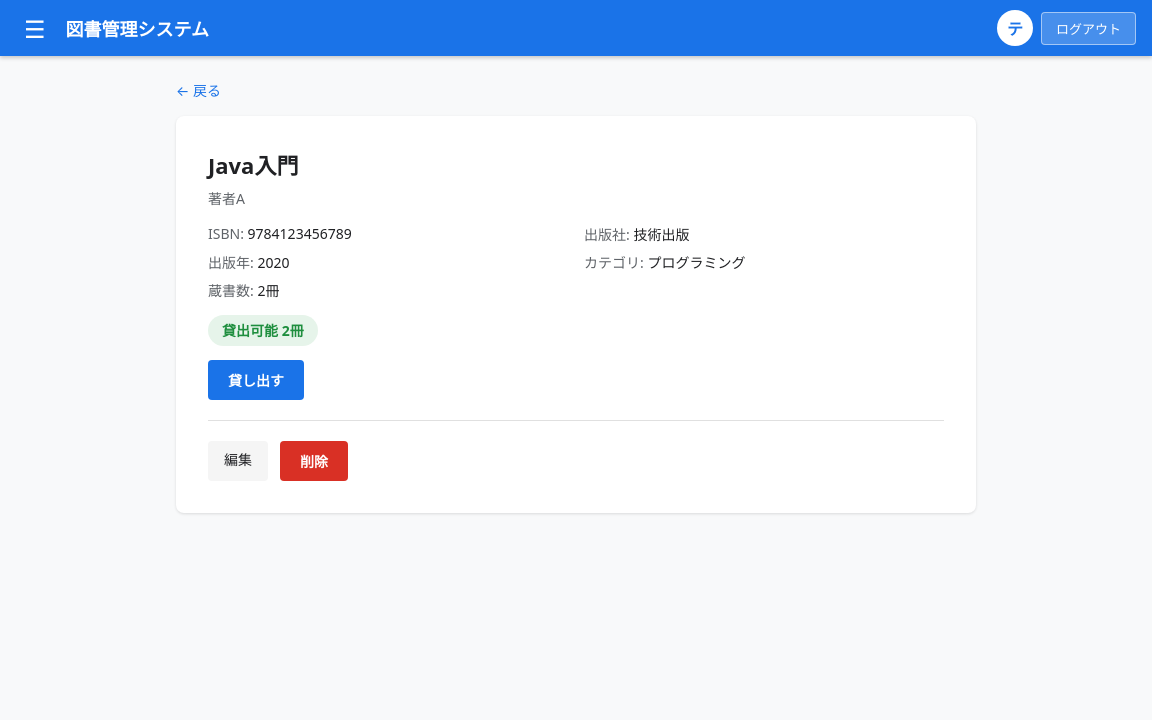
BookDetailPage › shows delete confirm dialog when delete button clicked
This screenshot has width=1152, height=720.
Expected: the heading "Java入門" is shown, [208, 150, 298, 180]
Click the button "削除" at (314, 461), box [280, 441, 348, 481]
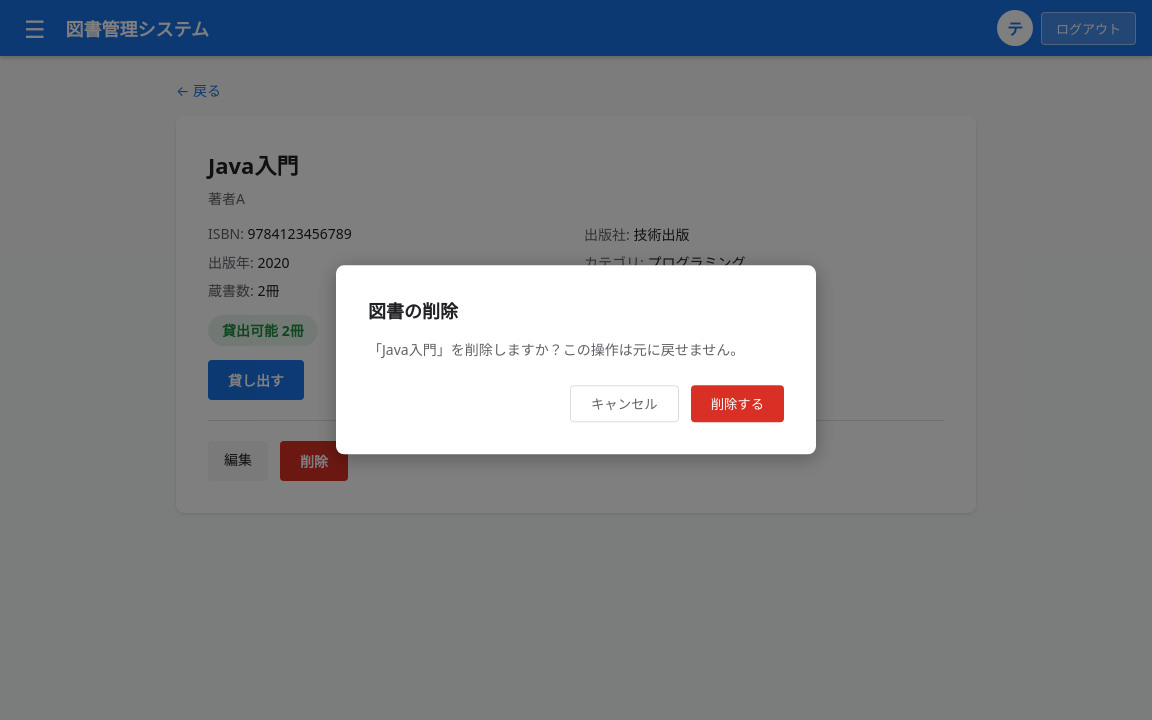
Now the heading "図書の削除" is shown, box [368, 299, 458, 323]
